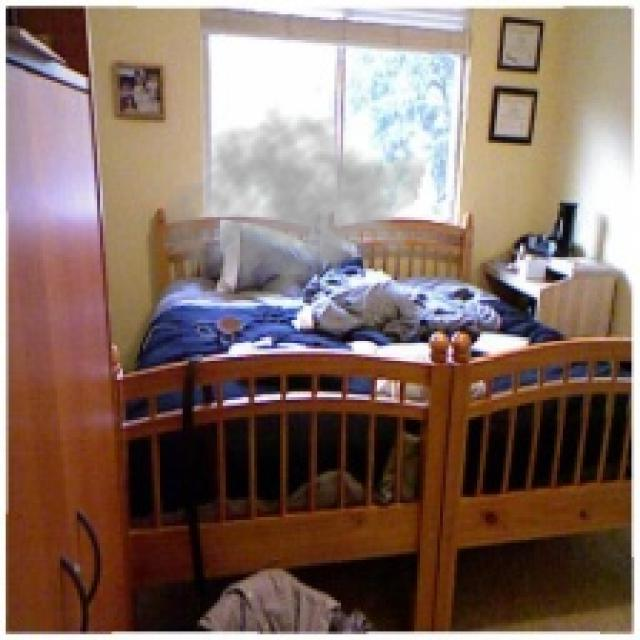smoke: (157, 106, 429, 306)
